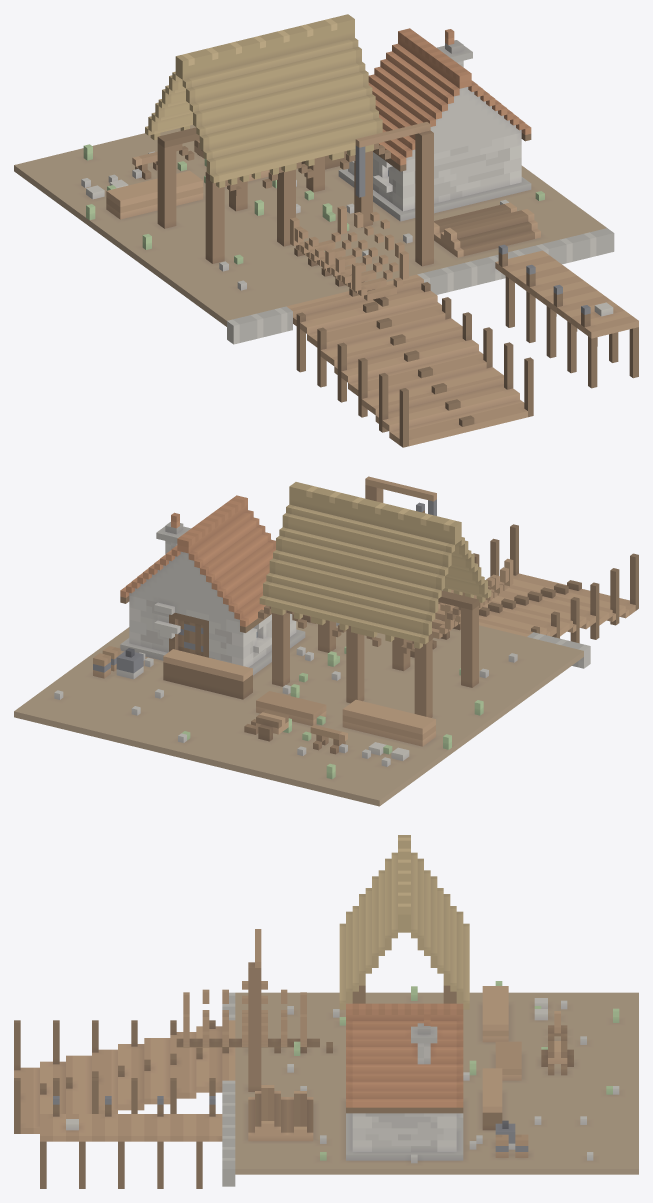
The model's file is shipyard.glb.
3 views of the same model, one above another, from view 1: azimuth 30°, elevation 25°; view 2: azimuth 150°, elevation 25°; view 3: azimuth 270°, elevation 25° (orthographic). The views are drawn at different scales.
Parts seen in each view (by area): view 1: shipyard; view 2: shipyard; view 3: shipyard.
Boxes of the visible parts, x1,y1,x2,y2 form: shipyard: (14, 14, 638, 447); shipyard: (14, 476, 638, 806); shipyard: (14, 835, 638, 1188).
Size of the model in its own units: 8 by 4.88 by 12.
